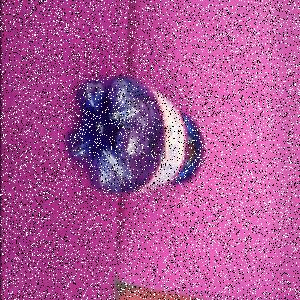Plastic-bottle: (65, 77, 207, 197)
